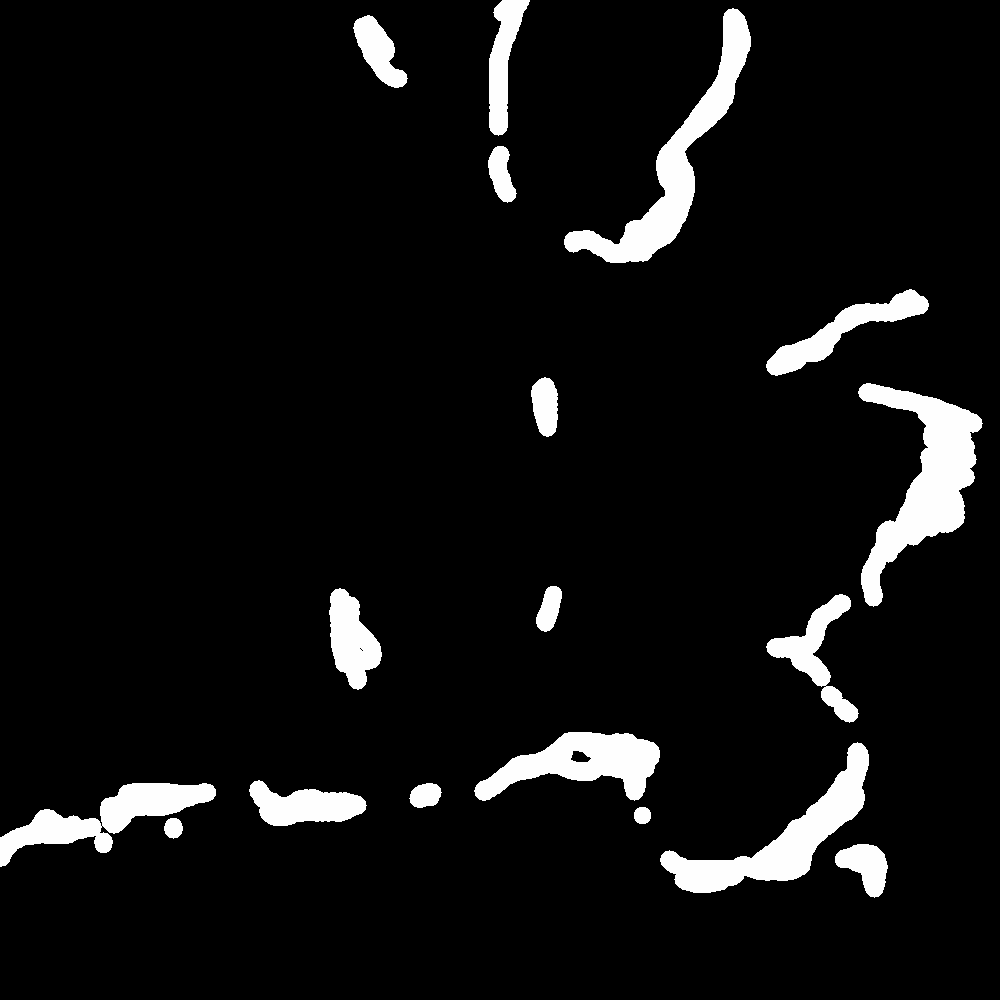illegal: (789, 435, 986, 684), (569, 13, 755, 275), (1, 763, 384, 872), (668, 745, 887, 901), (408, 739, 664, 822), (491, 1, 560, 204), (769, 293, 914, 376), (516, 389, 557, 561), (862, 385, 989, 438), (824, 843, 888, 927), (354, 13, 413, 97), (101, 5, 154, 59)
